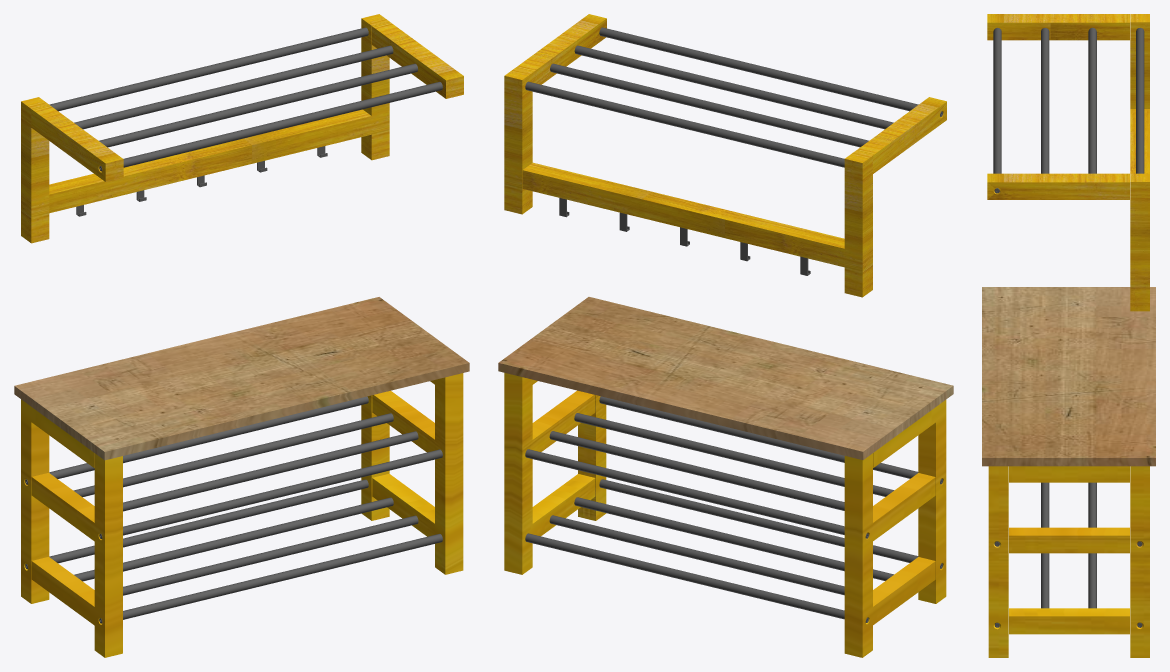
Rendered from Mesa_Cabide.fbx.
3 views of the same model, side by side, from view 1: azimuth 30°, elevation 25°; view 2: azimuth 150°, elevation 25°; view 3: azimuth 270°, elevation 25° (orthographic). The views are drawn at different scales.
Visible parts, largest first — view 1: Mesa, Apoio_Mesa, Apoio_Cabide, Cabide; view 2: Mesa, Apoio_Mesa, Apoio_Cabide, Cabide, Cabides; view 3: Mesa, Apoio_Cabide, Cabide, Apoio_Mesa.
Part boxes in pixels (bbox=[...]): Mesa: bbox=[14, 297, 469, 657]; Apoio_Mesa: bbox=[49, 396, 442, 619]; Apoio_Cabide: bbox=[21, 14, 463, 243]; Cabide: bbox=[49, 27, 442, 167]; Mesa: bbox=[498, 297, 953, 657]; Apoio_Mesa: bbox=[525, 396, 918, 619]; Apoio_Cabide: bbox=[504, 14, 946, 297]; Cabide: bbox=[525, 27, 918, 167]; Cabides: bbox=[559, 198, 810, 275]; Mesa: bbox=[982, 287, 1155, 657]; Apoio_Cabide: bbox=[987, 14, 1149, 311]; Cabide: bbox=[993, 27, 1144, 173]; Apoio_Mesa: bbox=[1041, 482, 1096, 608].
Bounding box in the file's own units: 436 × 566 × 187.
